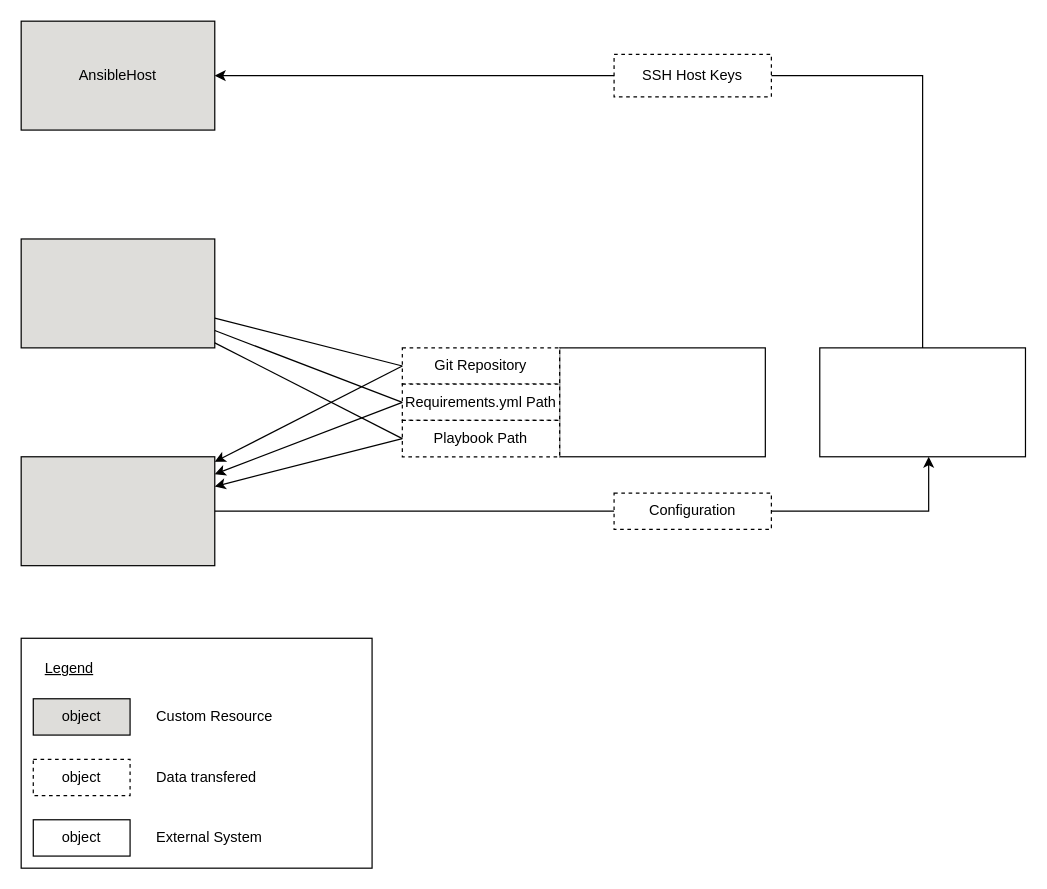
This 1047x889 diagram has some shape labels left out. The centre of each missing label's shape, as x and y in pixels:
"AnsiblePlaybook" goes at (117,293).
"AnsibleReconcileJob" goes at (117,511).
"Git Server" goes at (661,402).
"Managed Host" goes at (922,402).
